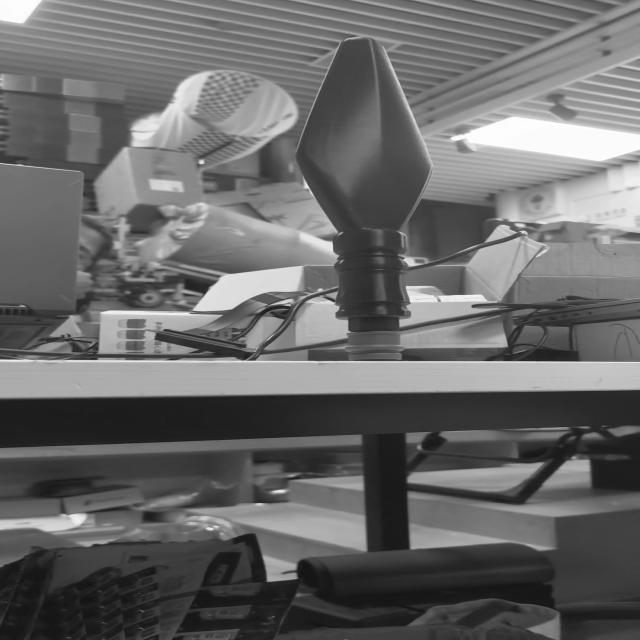base: (346, 330, 405, 361)
